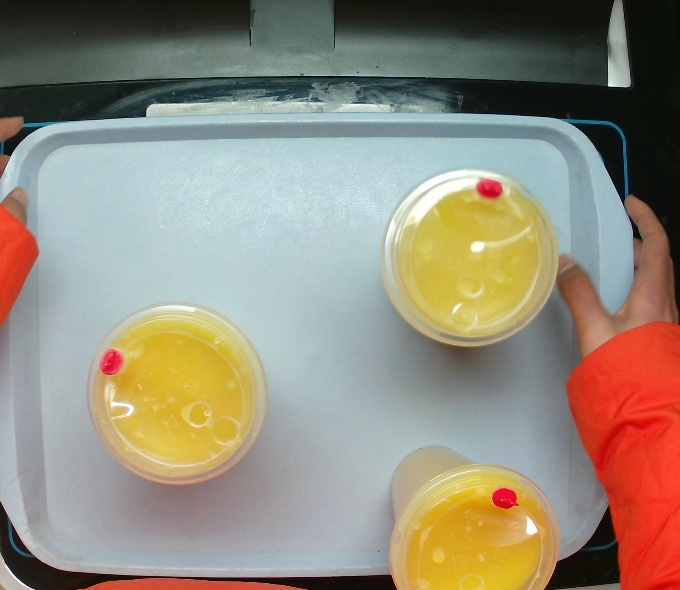wcq-ChengZhi: (84, 300, 269, 489), (377, 166, 561, 352), (384, 441, 560, 590)
